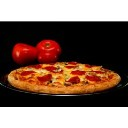pepperonipizza: (7, 64, 121, 91)
